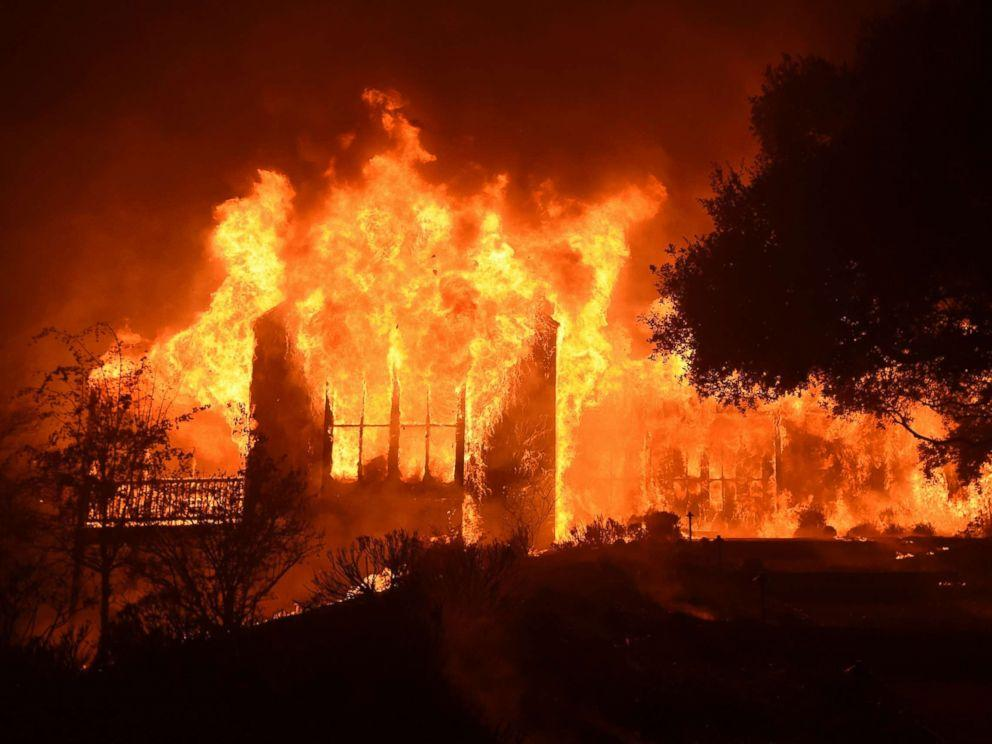Fire: (94, 109, 978, 580)
